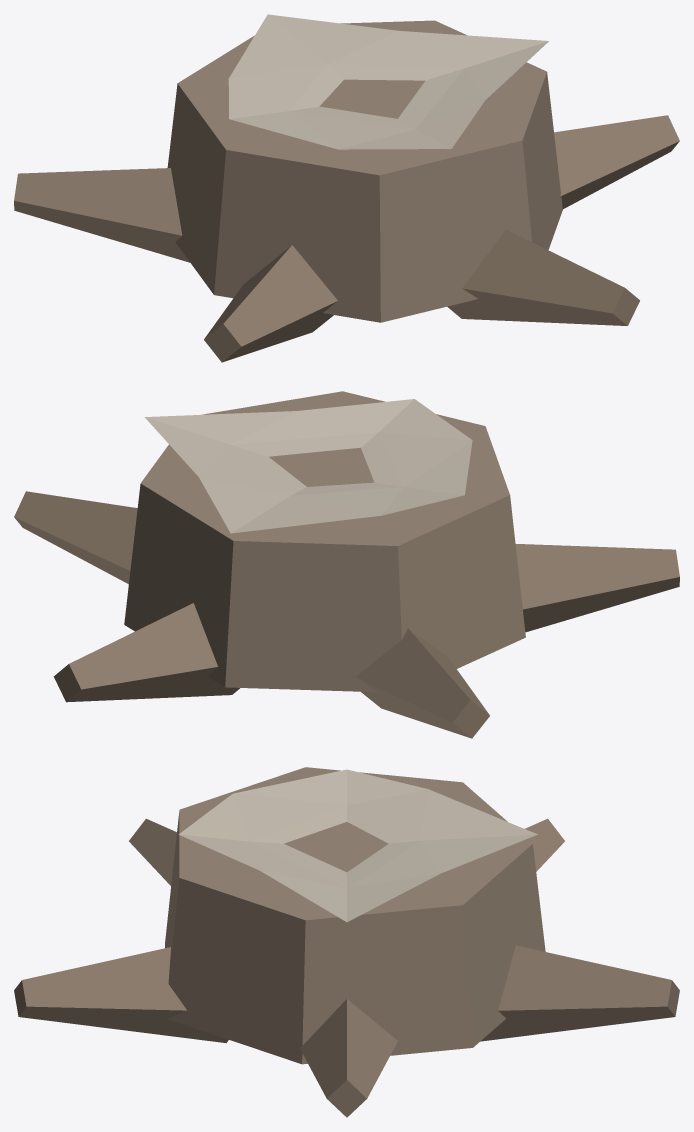
Rendered from stump_v15.glb.
3 renders of one model, top to bottom at view 1: azimuth 30°, elevation 25°; view 2: azimuth 150°, elevation 25°; view 3: azimuth 270°, elevation 25°, orthographic. The views are drawn at different scales.
Visible parts, largest first — view 1: lod0; view 2: lod0; view 3: lod0.
Boxes of the visible parts, left/top/right/bottom form: lod0: left=14, top=14, right=679, bottom=362; lod0: left=14, top=391, right=679, bottom=738; lod0: left=14, top=767, right=679, bottom=1117.
Size of what is drawn, in the model's own units: 1.26 by 0.4497 by 1.32.
